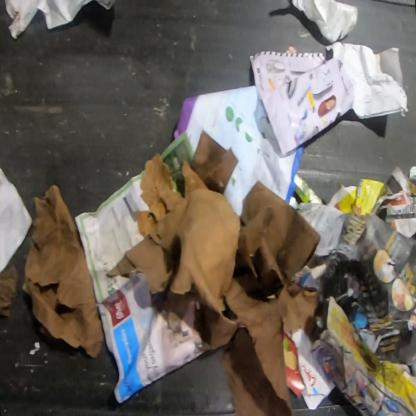cardboard: (108, 130, 322, 415), (24, 184, 104, 359)
